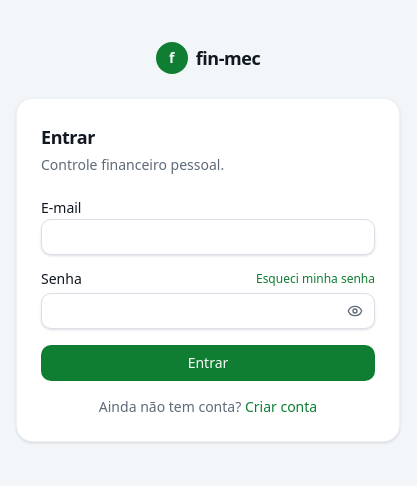
Test: LoginPage › mostra o detail do backend quando as credenciais sao invalidas
In the field labelled "E-mail": (208, 237) [41,219,375,255], type "joao@example.com"
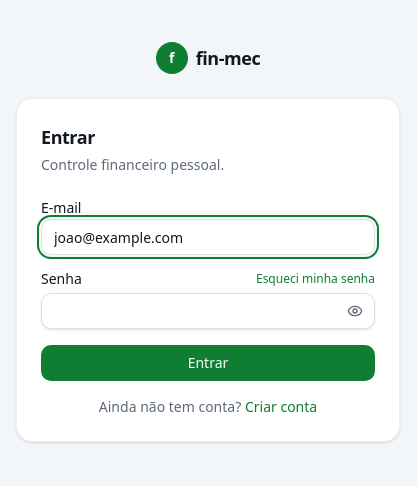
In the password field labelled "Senha": (208, 311) [41,293,375,329], type "senhaErrada"
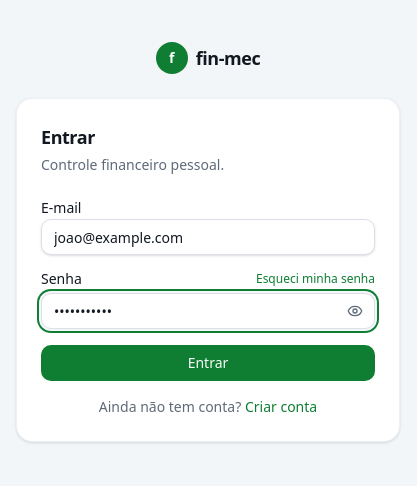
Click the button "Entrar": (208, 363) [41,345,375,381]
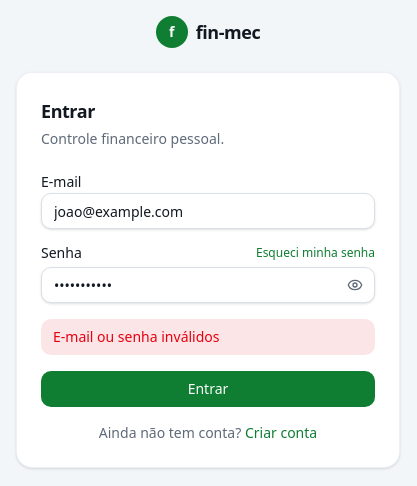
Expected: the text "E-mail ou senha inválidos" is shown, [41,319,375,355]
